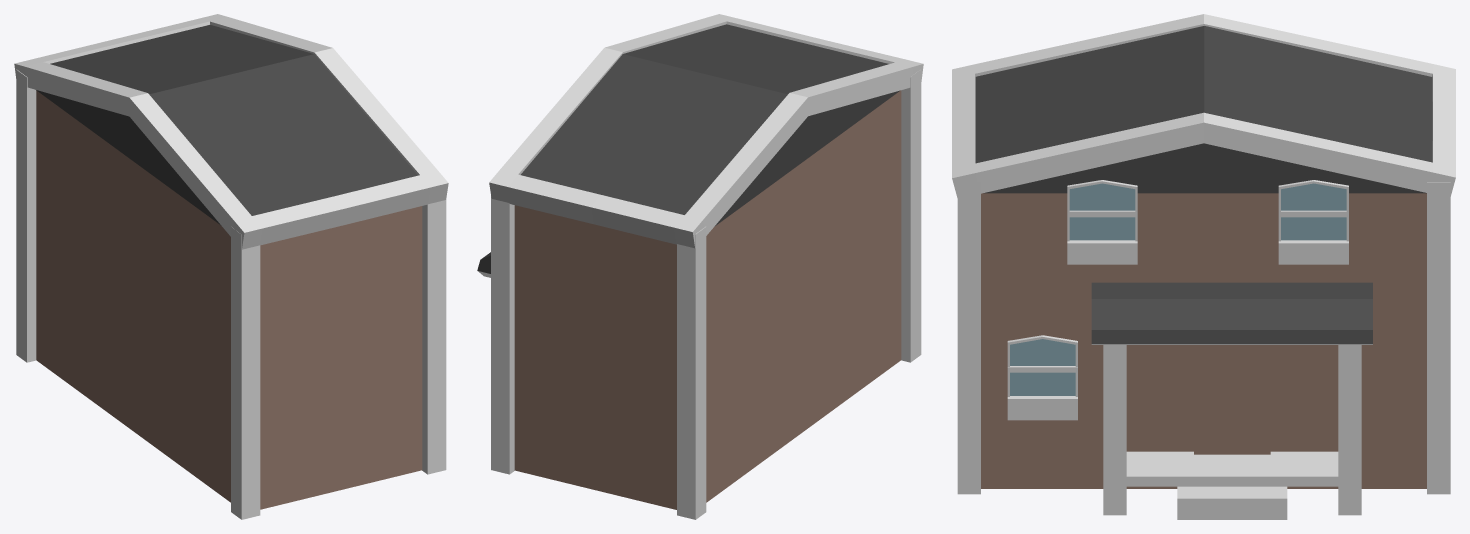
File: HausFull.glb
3 views of the same model, side by side, from view 1: azimuth 30°, elevation 25°; view 2: azimuth 150°, elevation 25°; view 3: azimuth 270°, elevation 25° (orthographic). The views are drawn at different scales.
Visible parts, largest first — view 1: Cube, Cube.004, Cube.001, Roof Thing; view 2: Cube, Cube.004, Roof Thing, Cube.001; view 3: Cube, Cube.004, Roof Thing, Cube.003, Cube.001, Cube.002, Cube.011, Cube.010, Cube.009.
Boxes of the visible parts, x1,y1,x2,y2 form: Cube: [36, 90, 422, 509]; Cube.004: [36, 24, 417, 225]; Cube.001: [16, 69, 446, 519]; Roof Thing: [14, 14, 448, 249]; Cube: [514, 90, 901, 509]; Cube.004: [521, 24, 900, 226]; Roof Thing: [489, 14, 923, 248]; Cube.001: [491, 69, 921, 519]; Cube: [981, 193, 1426, 488]; Cube.004: [975, 26, 1432, 193]; Roof Thing: [952, 14, 1455, 197]; Cube.003: [1091, 282, 1372, 515]; Cube.001: [957, 182, 1450, 494]; Cube.002: [1126, 451, 1338, 519]; Cube.011: [1007, 335, 1077, 420]; Cube.010: [1067, 180, 1137, 264]; Cube.009: [1278, 180, 1348, 264].
Size of the model in its own units: 28.44 by 34.88 by 42.9.
